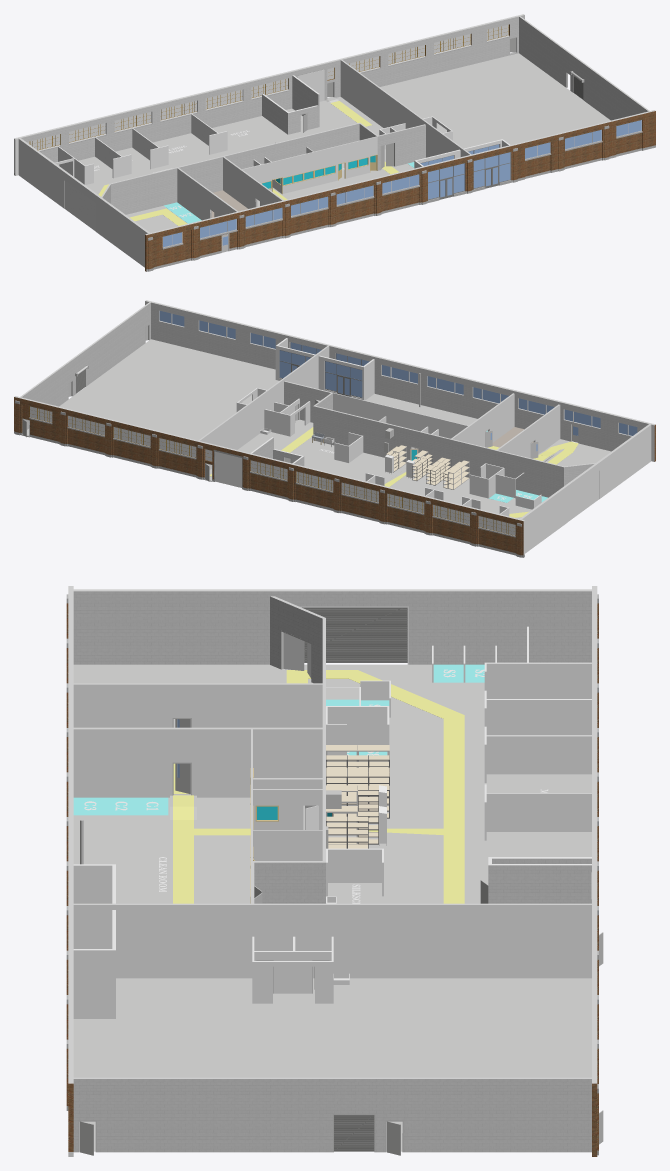
File: gltf BODGERY FLOOR PLAN1.gltf
3 views of the same model, one above another, from view 1: azimuth 30°, elevation 25°; view 2: azimuth 150°, elevation 25°; view 3: azimuth 270°, elevation 25° (orthographic). The views are drawn at different scales.
Parts seen in each view (by area): view 1: BODGERY FLOOR PLAN1; view 2: BODGERY FLOOR PLAN1; view 3: BODGERY FLOOR PLAN1.
Part boxes in pixels (x1=…): BODGERY FLOOR PLAN1: x1=14, y1=14, x2=655, y2=271; BODGERY FLOOR PLAN1: x1=14, y1=300, x2=655, y2=557; BODGERY FLOOR PLAN1: x1=66, y1=586, x2=603, y2=1156.
Bounding box in the file's own units: 268 × 18.53 × 122.
24 materials, 6 textured.
